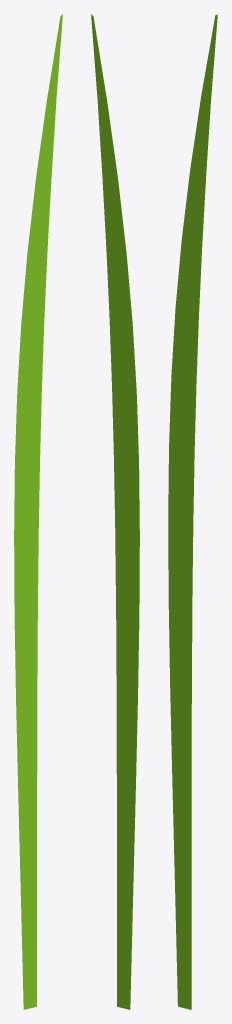
Rendered from grass.glb.
3 renders of one model, left to right at view 1: azimuth 30°, elevation 25°; view 2: azimuth 150°, elevation 25°; view 3: azimuth 330°, elevation 25°, orthographic.
Visible parts, largest first — view 1: Plane; view 2: Plane; view 3: Plane.
Part boxes in pixels (x1,y1,x2,y2): Plane: (14, 14, 62, 1009); Plane: (91, 14, 139, 1009); Plane: (168, 14, 217, 1009).
Bounding box in the file's own units: 0.1035 × 2 × 4.44e-16.
